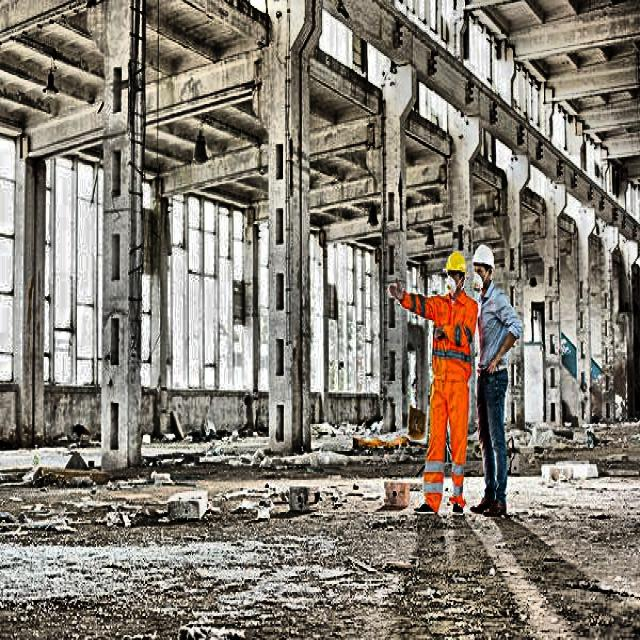helmet: (471, 244, 494, 286), (445, 251, 466, 291)
